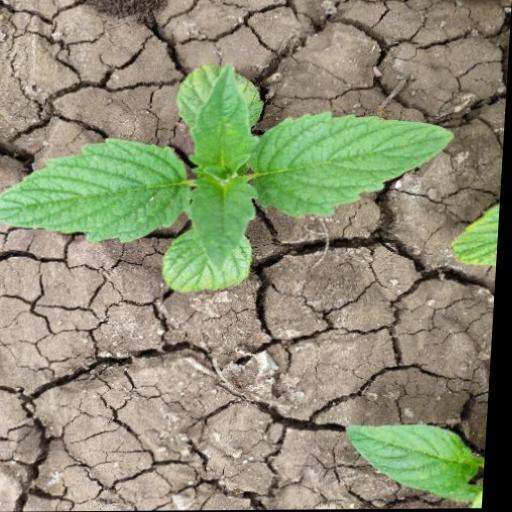crop: (0, 56, 466, 296)
